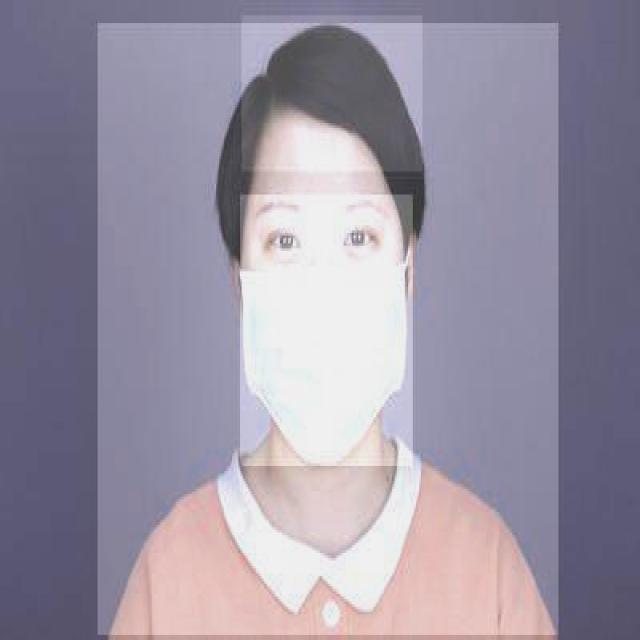face_mask: (238, 194, 413, 468)
head_nohelmet: (240, 15, 422, 174)
person: (96, 23, 558, 637)
